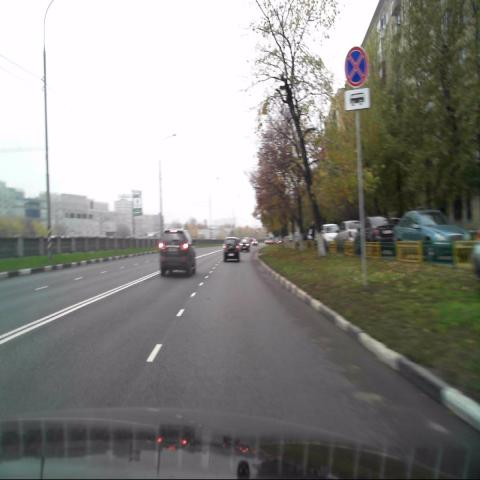8_4_4: (344, 91, 369, 109)
